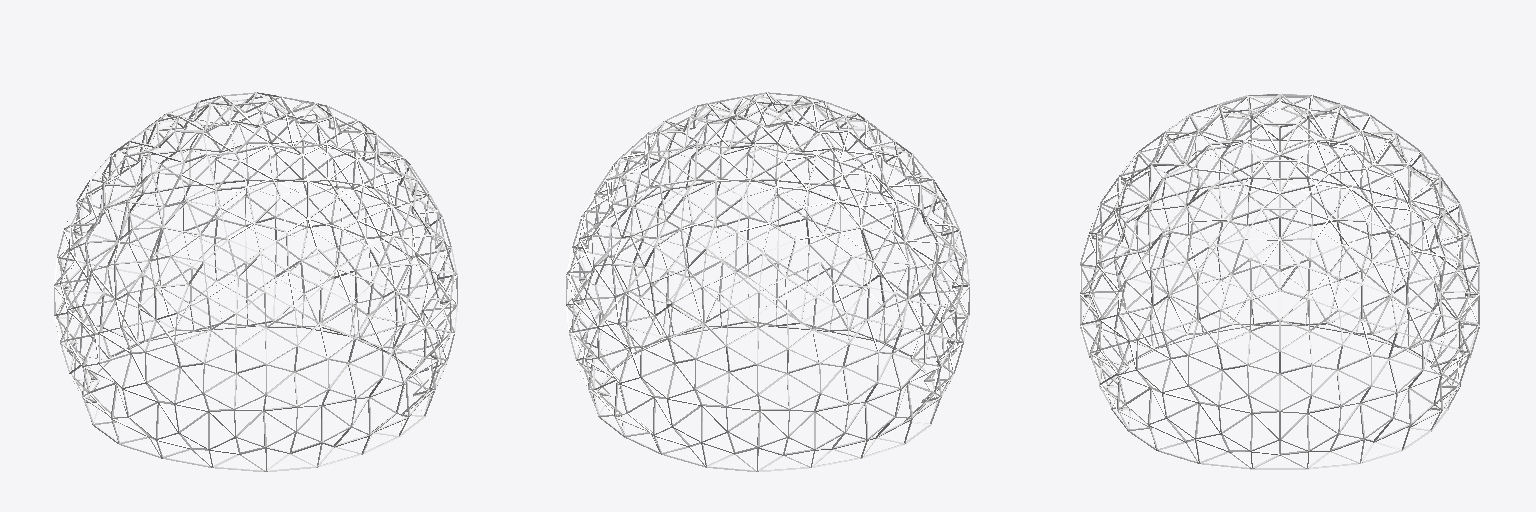
Rendered from Dome_Structure.obj.
3 views of the same model, side by side, from view 1: azimuth 30°, elevation 25°; view 2: azimuth 150°, elevation 25°; view 3: azimuth 270°, elevation 25° (orthographic).
Size of the model in its own units: 136 by 107 by 136.